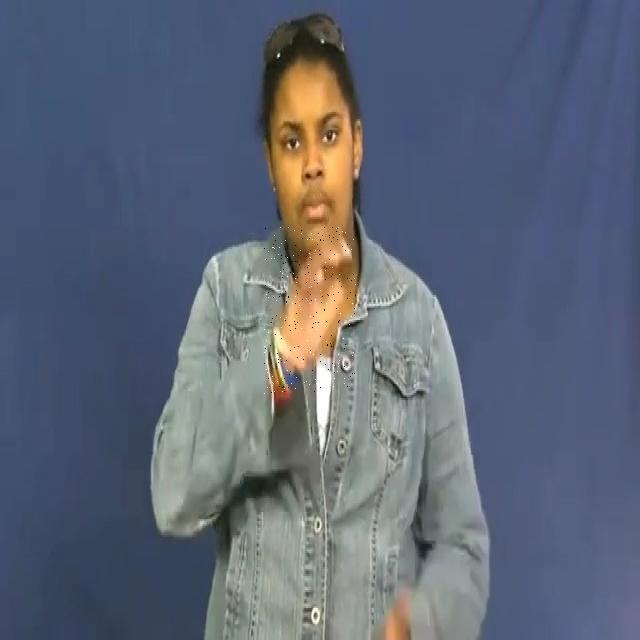tissues: (264, 226, 356, 394)
